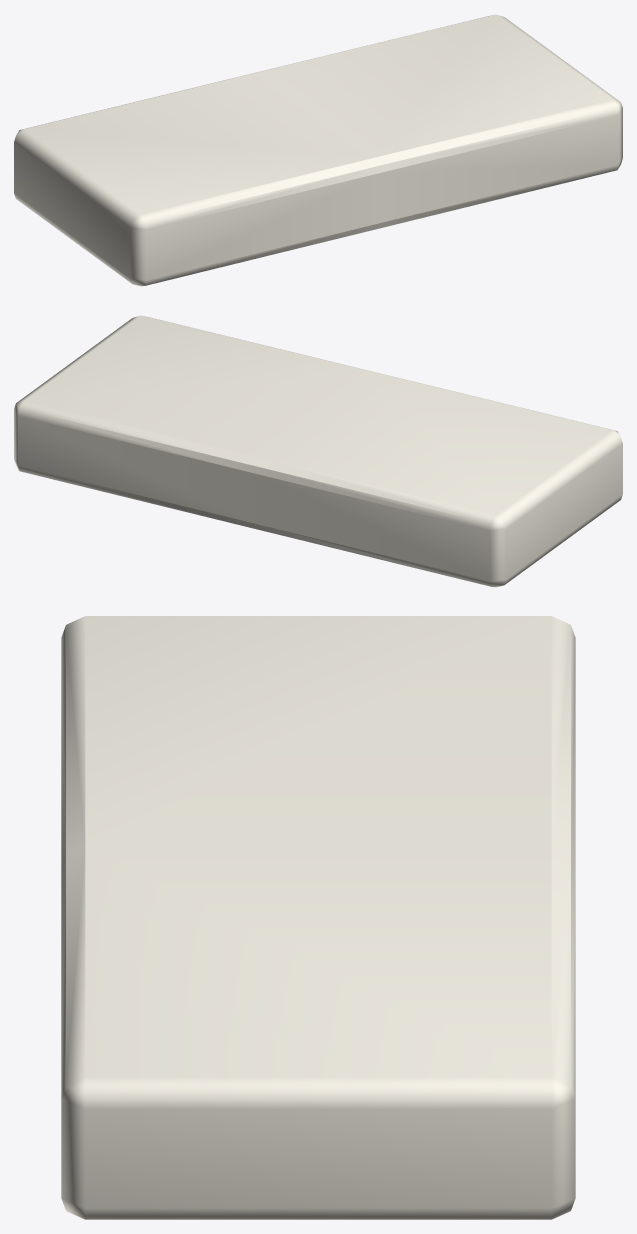
3 views of the same model, one above another, from view 1: azimuth 30°, elevation 25°; view 2: azimuth 150°, elevation 25°; view 3: azimuth 270°, elevation 25° (orthographic). The views are drawn at different scales.
Visible parts, largest first — view 1: domino:domino:domino:domino:polySurface14; view 2: domino:domino:domino:domino:polySurface14; view 3: domino:domino:domino:domino:polySurface14.
Boxes of the visible parts, bbox=[...] form: domino:domino:domino:domino:polySurface14: bbox=[14, 14, 622, 286]; domino:domino:domino:domino:polySurface14: bbox=[14, 315, 622, 587]; domino:domino:domino:domino:polySurface14: bbox=[61, 616, 575, 1219].
Size of the model in its own units: 3.28 by 0.4579 by 1.48.
Materials: 1 (1 with a texture image).
